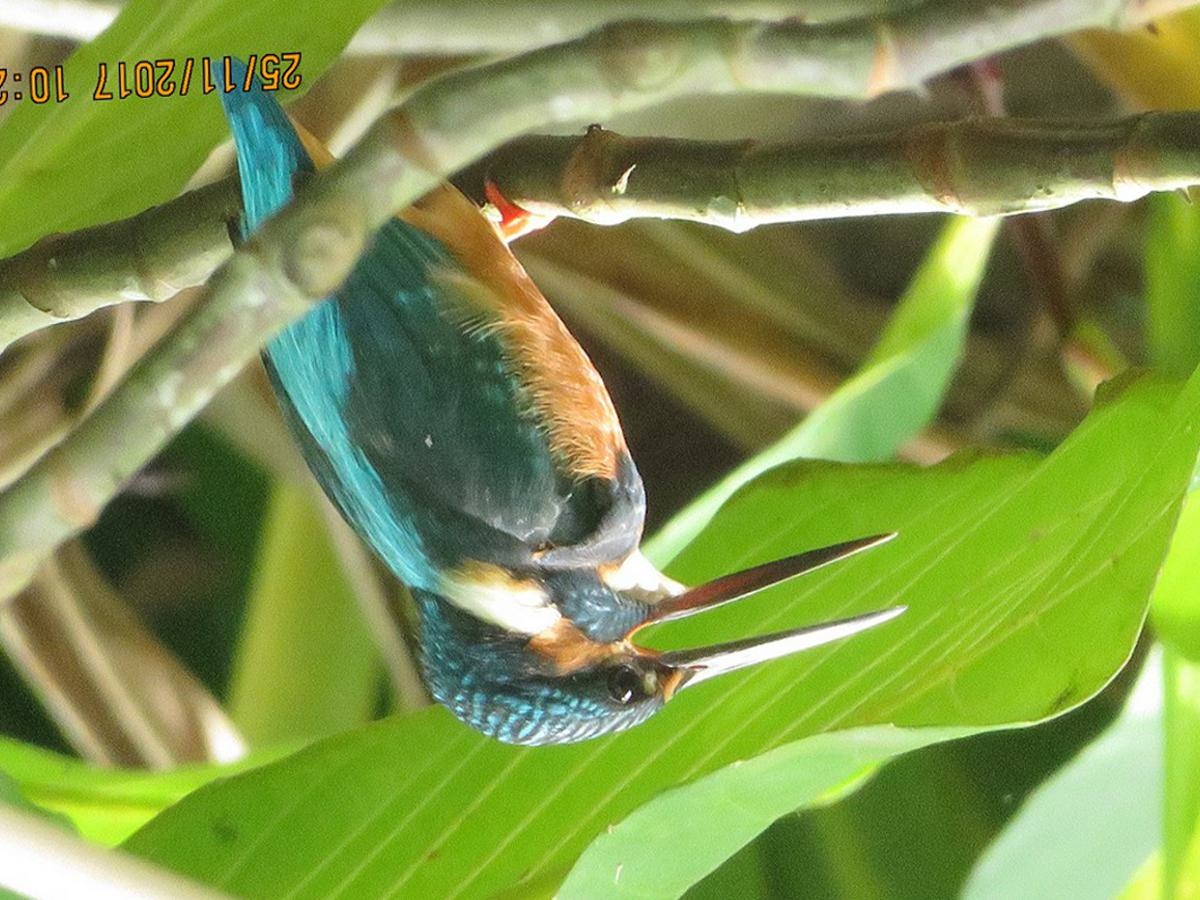kingfisher: (195, 64, 916, 760)
